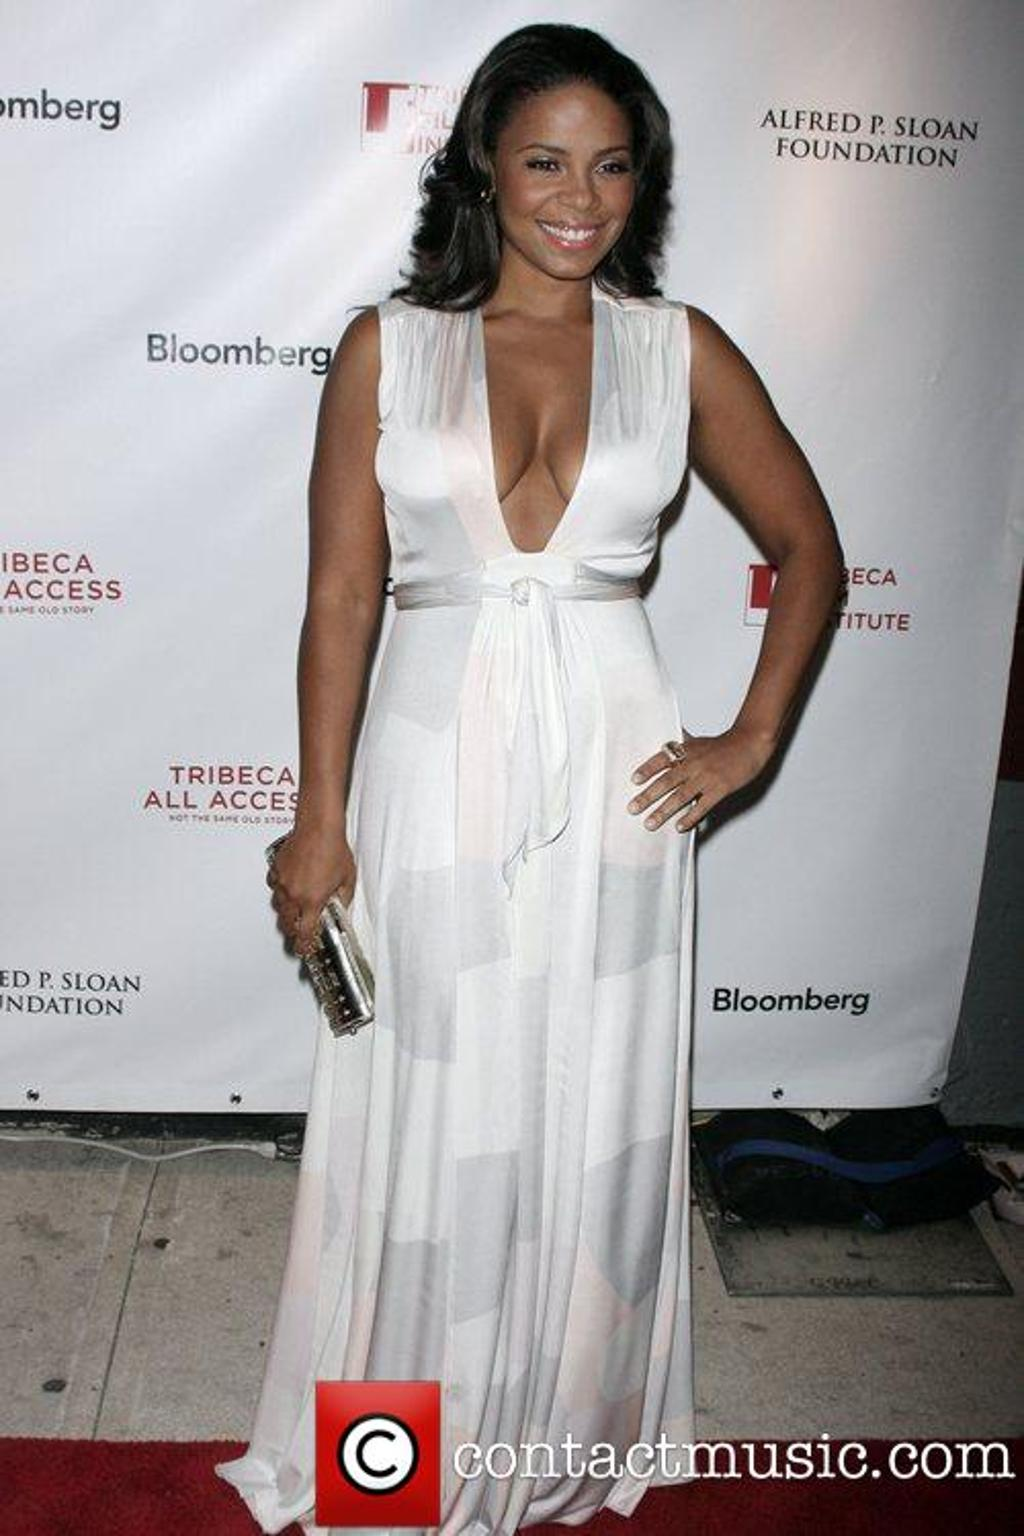face: (495, 90, 630, 285)
